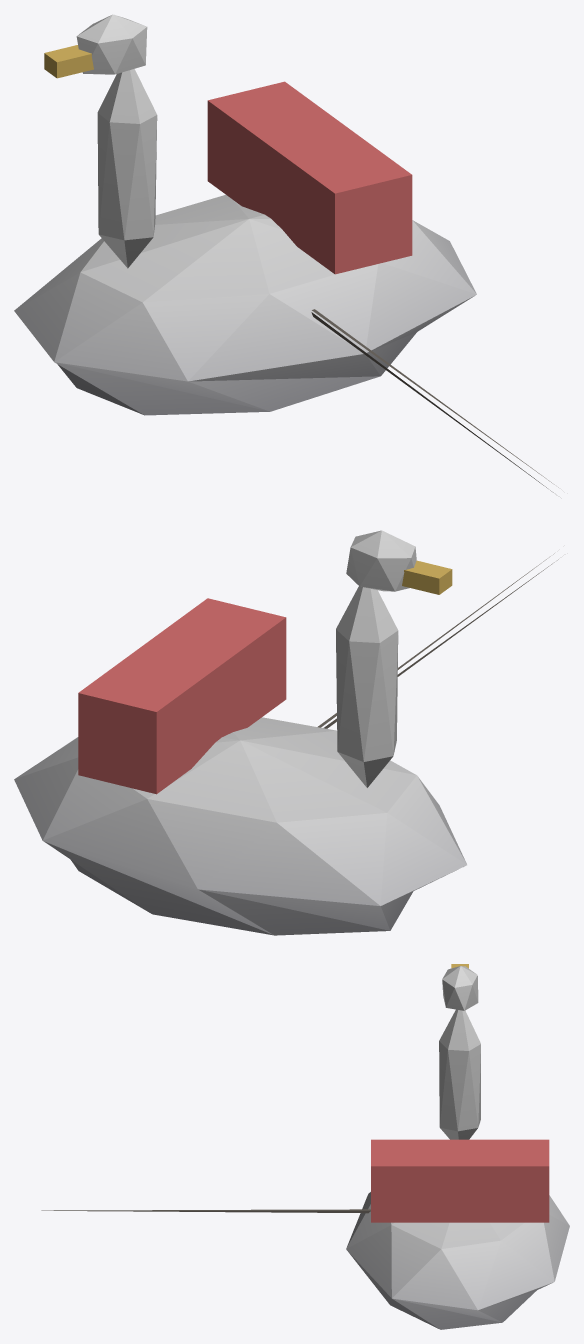
File: pedalinho_cisne.glb
3 renders of one model, top to bottom at view 1: azimuth 30°, elevation 25°; view 2: azimuth 150°, elevation 25°; view 3: azimuth 270°, elevation 25°, orthographic. The views are drawn at different scales.
Visible parts, largest first — view 1: Malha_0; view 2: Malha_0; view 3: Malha_0.
Part boxes in pixels (x1,y1,x2,y2): Malha_0: (14,14,558,492); Malha_0: (14,530,558,935); Malha_0: (41,964,569,1329).
Bounding box in the file's own units: 1.91 × 1.69 × 3.12.
